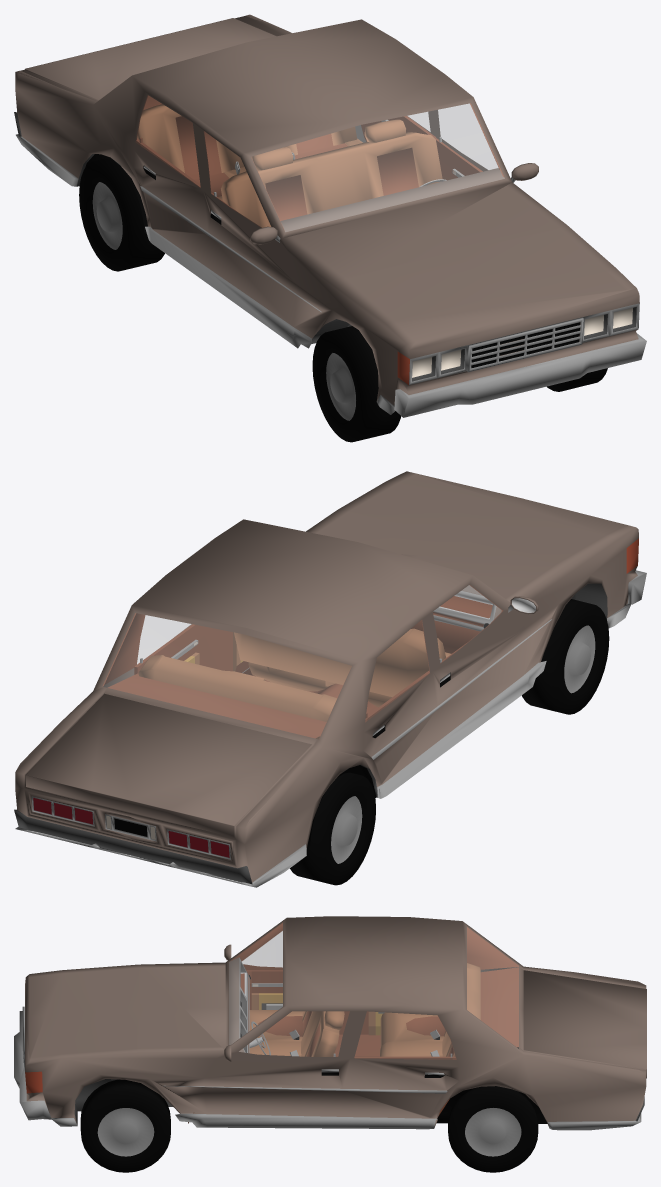
Rendered from CarRevamped.glb.
3 renders of one model, top to bottom at view 1: azimuth 30°, elevation 25°; view 2: azimuth 150°, elevation 25°; view 3: azimuth 270°, elevation 25°, orthographic. The views are drawn at different scales.
Visible parts, largest first — view 1: CarParts.004, CarParts.007, CarParts.002, CarParts.003, CarParts.026; view 2: CarParts.004, CarParts.007, CarParts.002, CarParts.003, CarParts.020, CarParts.026; view 3: CarParts.004, CarParts.007, CarParts, CarParts.001, CarParts.021, CarParts.006, CarParts.022, CarParts.020.
Boxes of the visible parts, bbox=[...] form: CarParts.004: bbox=[14, 14, 646, 417]; CarParts.007: bbox=[137, 104, 442, 227]; CarParts.002: bbox=[312, 326, 401, 442]; CarParts.003: bbox=[79, 158, 164, 271]; CarParts.026: bbox=[434, 137, 482, 180]; CarParts.004: bbox=[14, 471, 646, 887]; CarParts.007: bbox=[138, 628, 450, 739]; CarParts.002: bbox=[522, 599, 609, 714]; CarParts.003: bbox=[290, 772, 375, 885]; CarParts.020: bbox=[134, 624, 211, 674]; CarParts.026: bbox=[211, 628, 249, 672]; CarParts.004: bbox=[14, 916, 646, 1130]; CarParts.007: bbox=[249, 963, 480, 1056]; CarParts: bbox=[80, 1079, 170, 1172]; CarParts.001: bbox=[448, 1086, 538, 1172]; CarParts.021: bbox=[246, 970, 343, 1034]; CarParts.006: bbox=[333, 1034, 380, 1056]; CarParts.022: bbox=[343, 1011, 384, 1035]; CarParts.020: bbox=[354, 1053, 456, 1116].
Size of the model in its own units: 2.64 by 1.88 by 6.4.
Materials: 4 (2 with a texture image).
